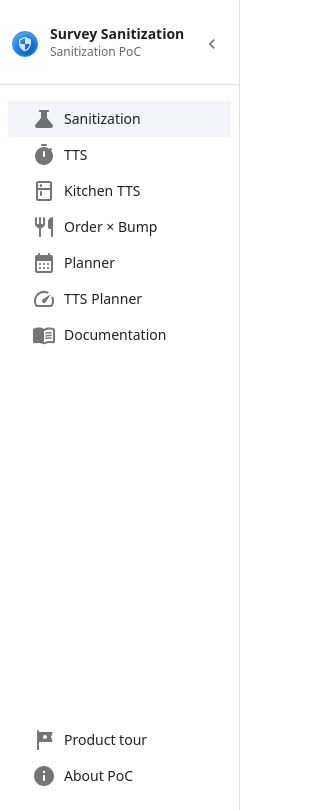
SideMenu › starts expanded and collapses to mini rail
The width and height of the screenshot is (320, 810).
Expected: the heading "Survey Sanitization" is shown, [50, 26, 184, 42]
Expected: the link "Sanitization" is shown, [8, 101, 231, 137]
What coordinates should you click on to do the following:
click the button named "Collapse navigation"
I would click on:
 (212, 44)
Its box is [197, 29, 227, 59].
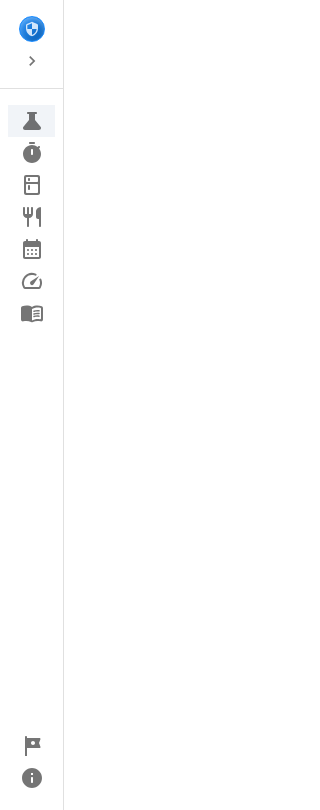
Expected: the link named "Sanitization" is shown, [8, 105, 55, 137]
Now the heading "Survey Sanitization" is gone
Now the button named "Expand navigation" is shown, box [16, 46, 46, 76]
